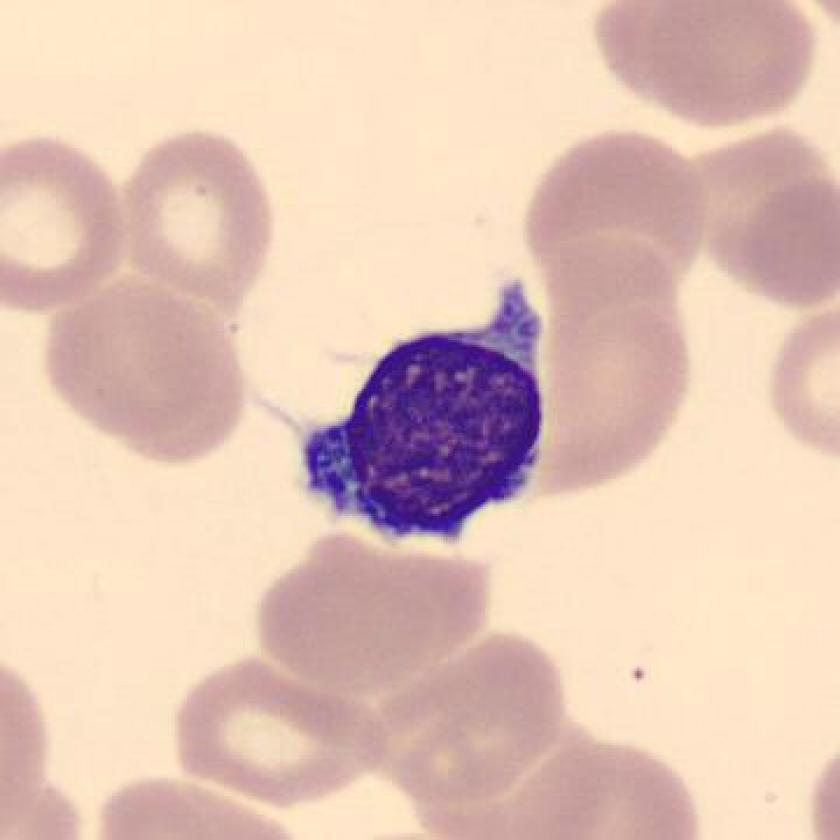lymphocyte: (274, 265, 568, 554)
